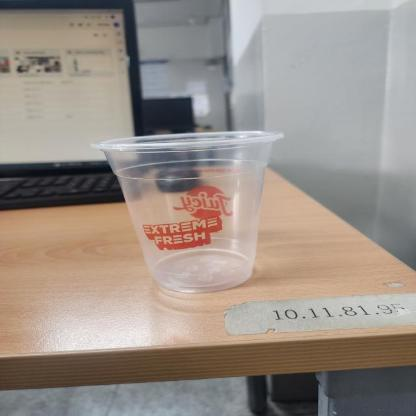Plastic Cup: (89, 130, 285, 292)
